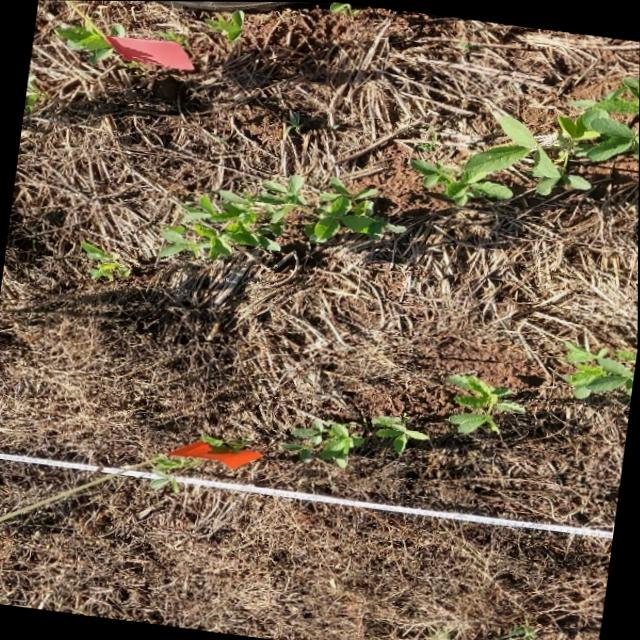soy_plant: (410, 76, 640, 205), (160, 177, 403, 258), (446, 373, 523, 433), (565, 342, 636, 397), (283, 419, 362, 466), (370, 415, 427, 452), (57, 26, 110, 61), (81, 242, 129, 280), (204, 9, 243, 41), (149, 453, 199, 471), (498, 621, 535, 640), (329, 2, 350, 13), (109, 24, 123, 35)
